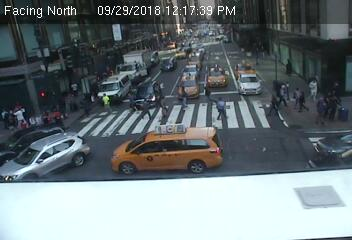car: (1, 169, 352, 239), (112, 122, 223, 173), (1, 135, 90, 179), (2, 127, 64, 158), (311, 129, 352, 160), (118, 48, 152, 81), (96, 73, 128, 101), (131, 79, 160, 109), (177, 74, 200, 99), (238, 73, 261, 97), (225, 55, 255, 73), (208, 65, 227, 87), (185, 63, 200, 79), (162, 56, 176, 70), (221, 34, 232, 48), (174, 48, 186, 58), (164, 40, 177, 48)
